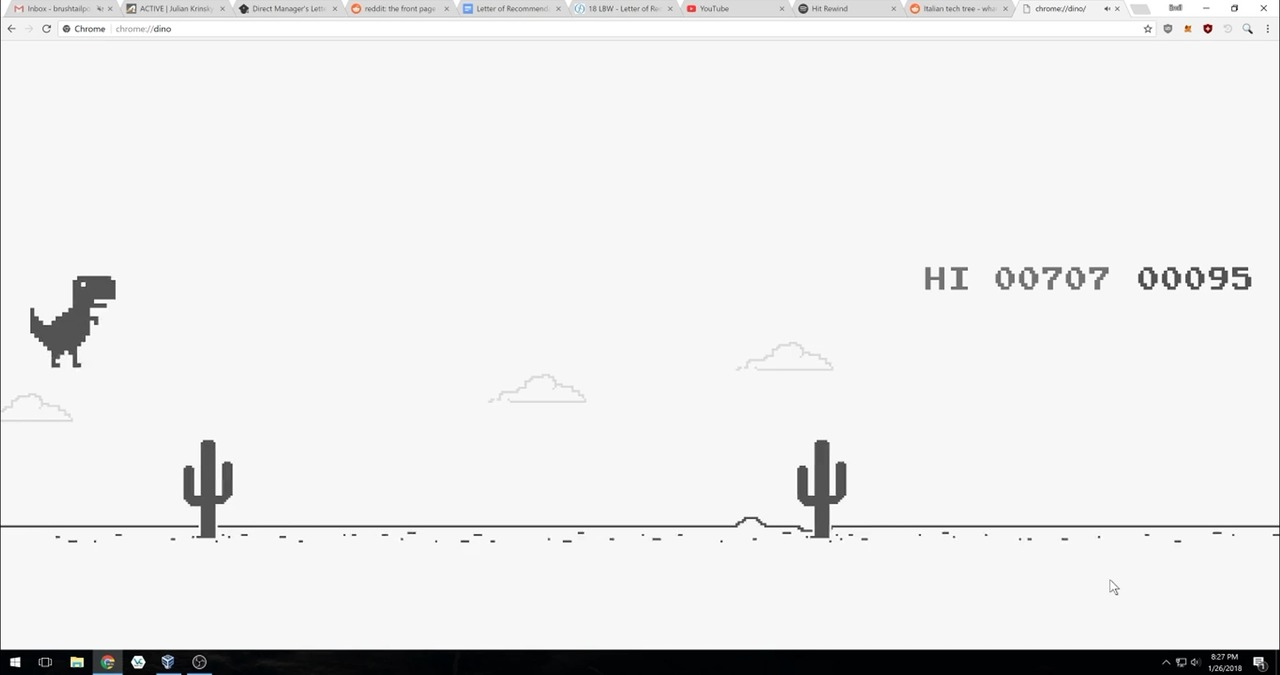cactus: (793, 436, 851, 544), (180, 436, 237, 541)
dinosaur: (28, 273, 118, 370)
